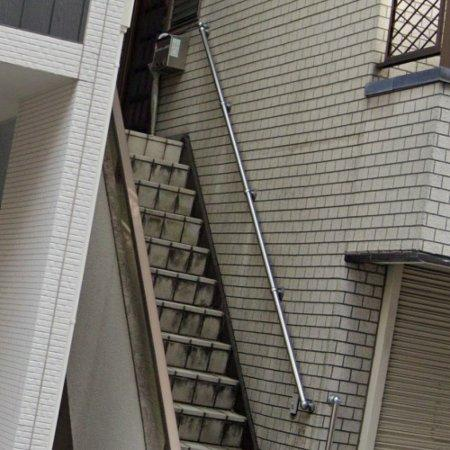stairs: (127, 131, 247, 450)
